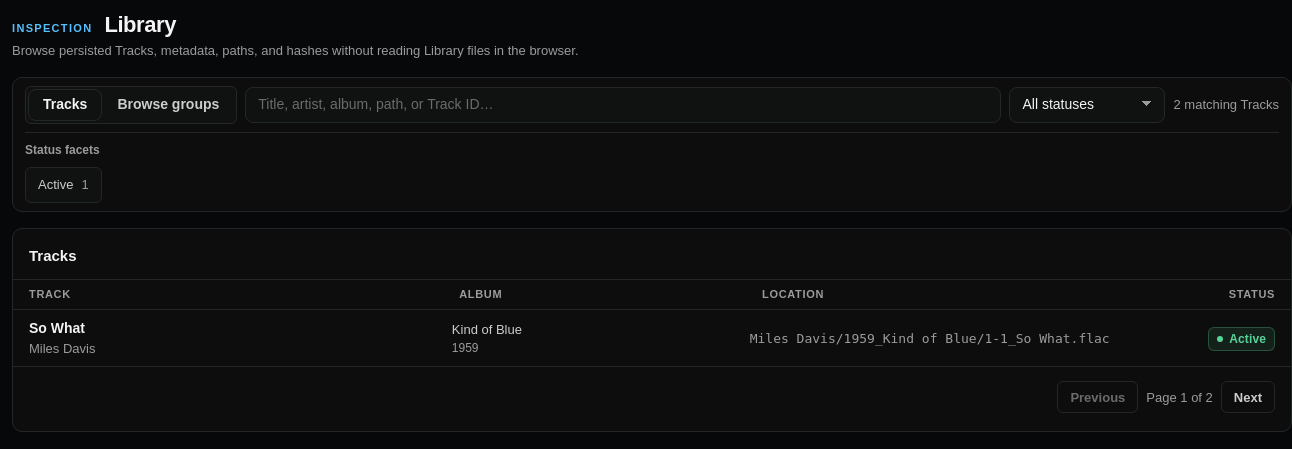
Library inspection › bounds Track cursor pages and resets paging for a changed filter
Check: the text "So What" is shown, box [29,320,85,336]
Click the button with aria-label "Next page of Tracks" at {"x": 1248, "y": 397}, box [1221,381,1275,413]
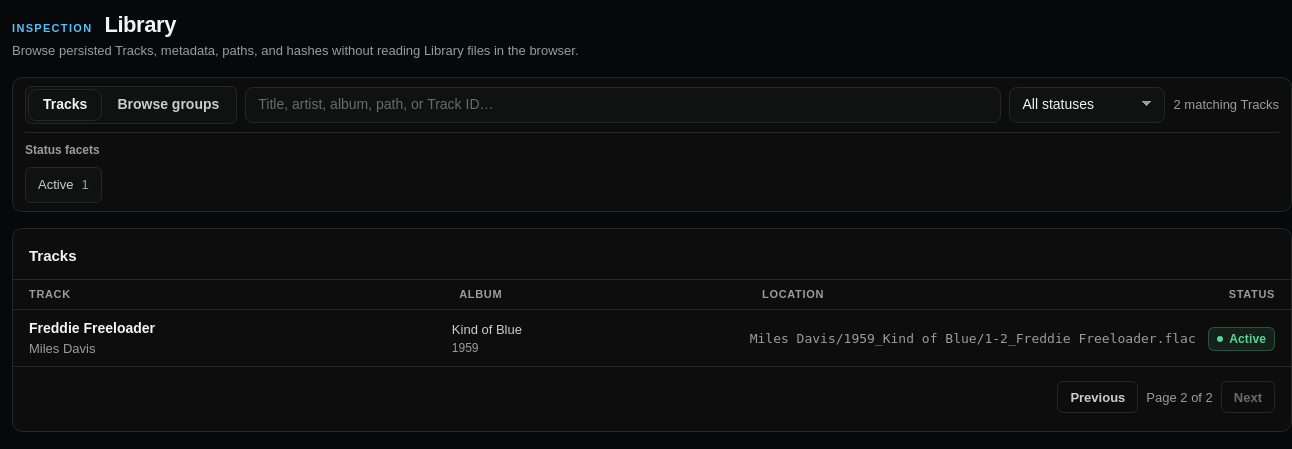
Check: the text "Freddie Freeloader" is shown, box [29,320,155,336]
Check: the link "So What" is gone
Check: the text "Page 2 of 2" is shown, box [1146,388,1213,407]
Select "Active" in the dropdown named "Track status" at {"x": 1088, "y": 105}, box [1010,87,1166,123]
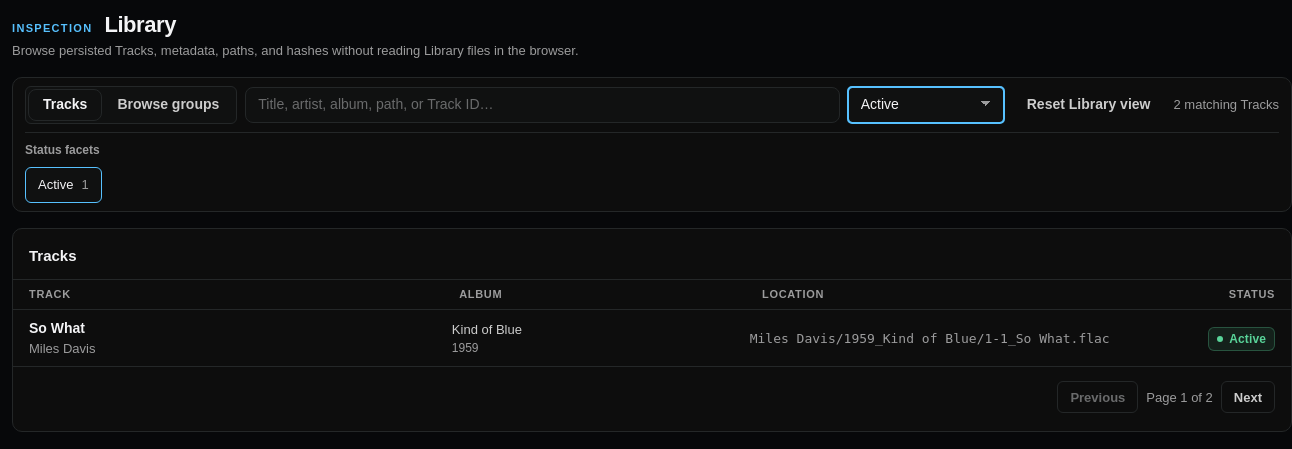
Check: the text "So What" is shown, box [29,320,85,336]
Check: the link "Freddie Freeloader" is gone
Check: the text "Page 1 of 2" is shown, box [1146,388,1213,407]
